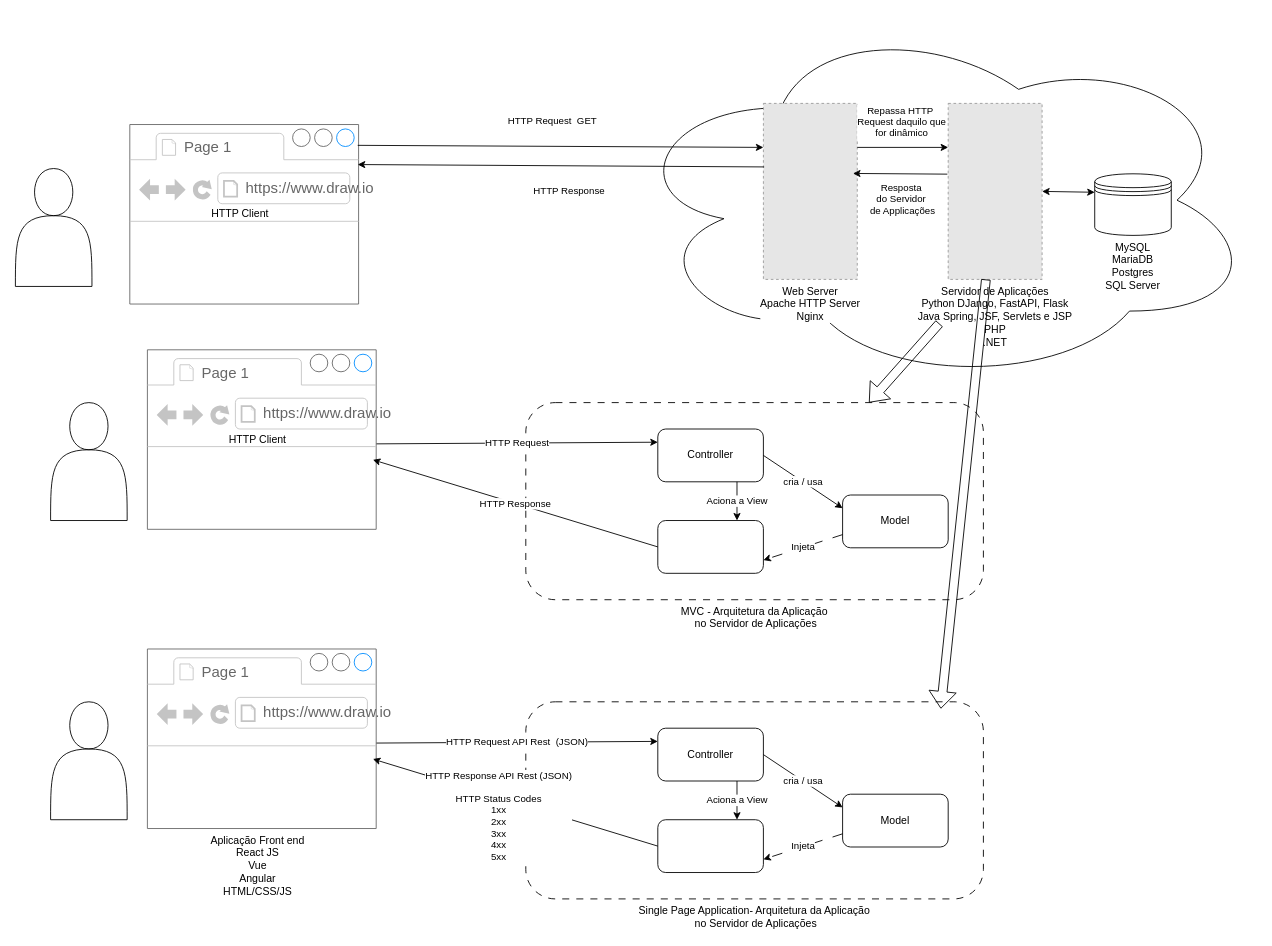
The diagram is 1272 pixels wide and 946 high, and some of its shapes have lost their labels. Grey dashed boxes stand in for pictures. Each missing label, with the centre of its shape:
Banco de dados: the point at 1132,204
View: the point at 710,546
View Data Transfer Object: the point at 710,846
